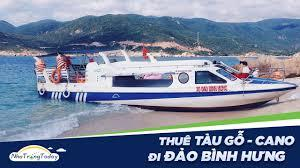Ship: (35, 51, 297, 109)
